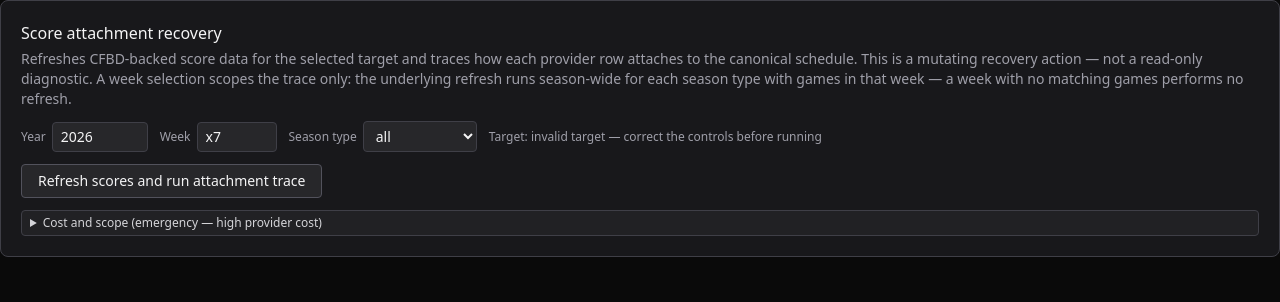
Test case: an invalid nonblank week shows an inline error and performs no confirmation or request
Click the button "Refresh scores and run attachment trace".
click(172, 181)  # box [21, 164, 322, 198]
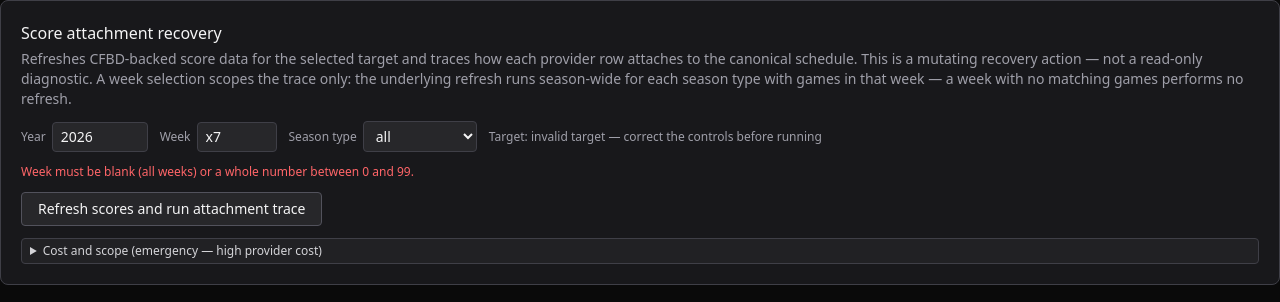
Now the text "Week must be blank (all weeks) or a whole number between 0 and 99." is shown, box [21, 163, 414, 180]
